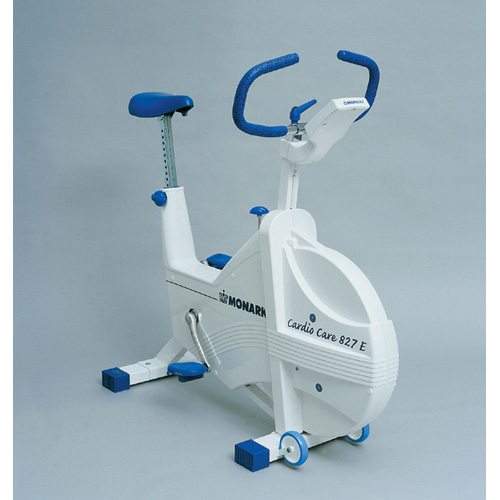gym_bike: (91, 44, 403, 474)
